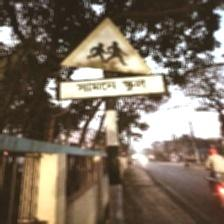School-in-front: (57, 15, 164, 104)
